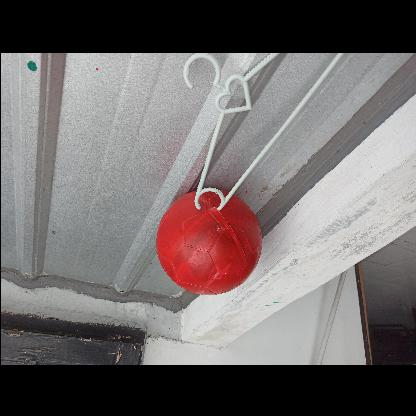red_ball: (157, 191, 261, 295)
